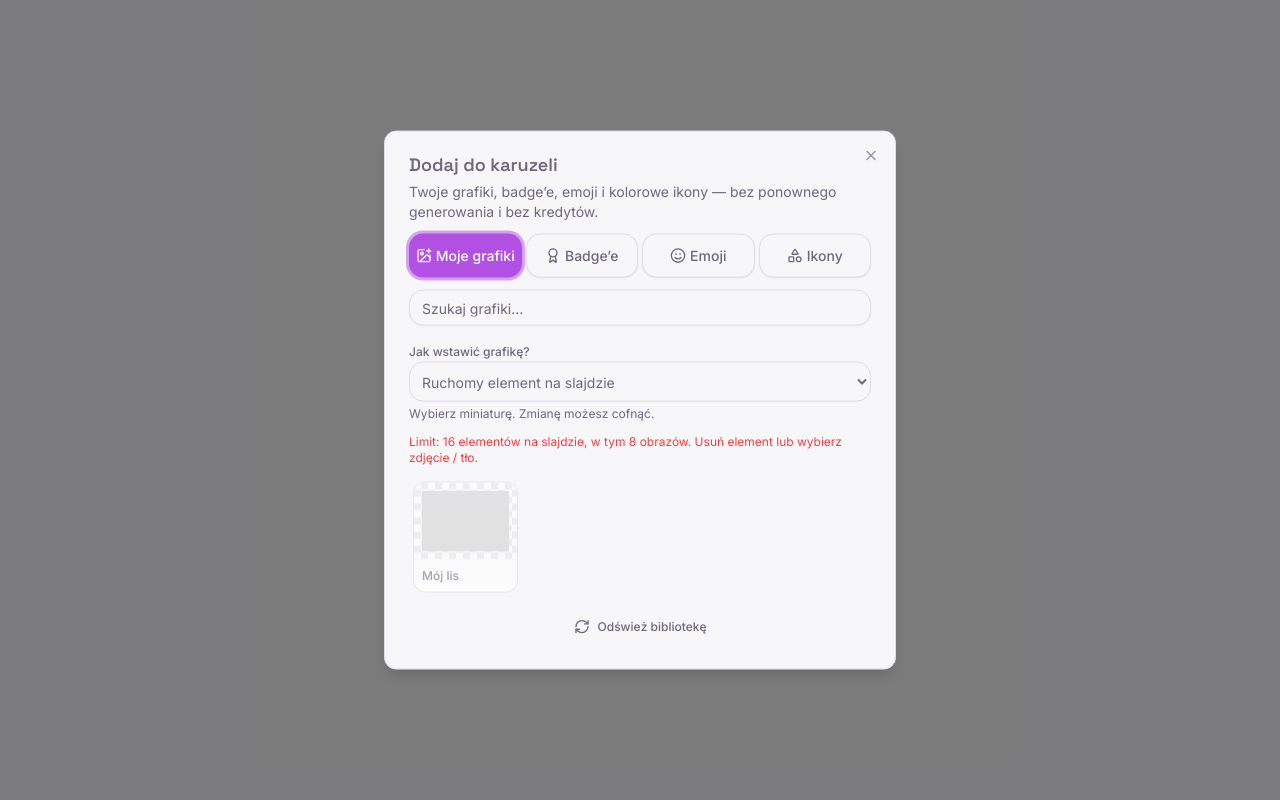
Test case: keeps photo and background available after the movable image limit is reached
Check: the button with aria-label "Wstaw grafikę: Mój lis" is disabled, box top-left (413, 482), bottom-right (518, 592)
Select "Zdjęcie slajdu · zastępuje obecne zdjęcie" in the dropdown labelled "Jak wstawić grafikę?" at (640, 382), box top-left (409, 362), bottom-right (871, 402)
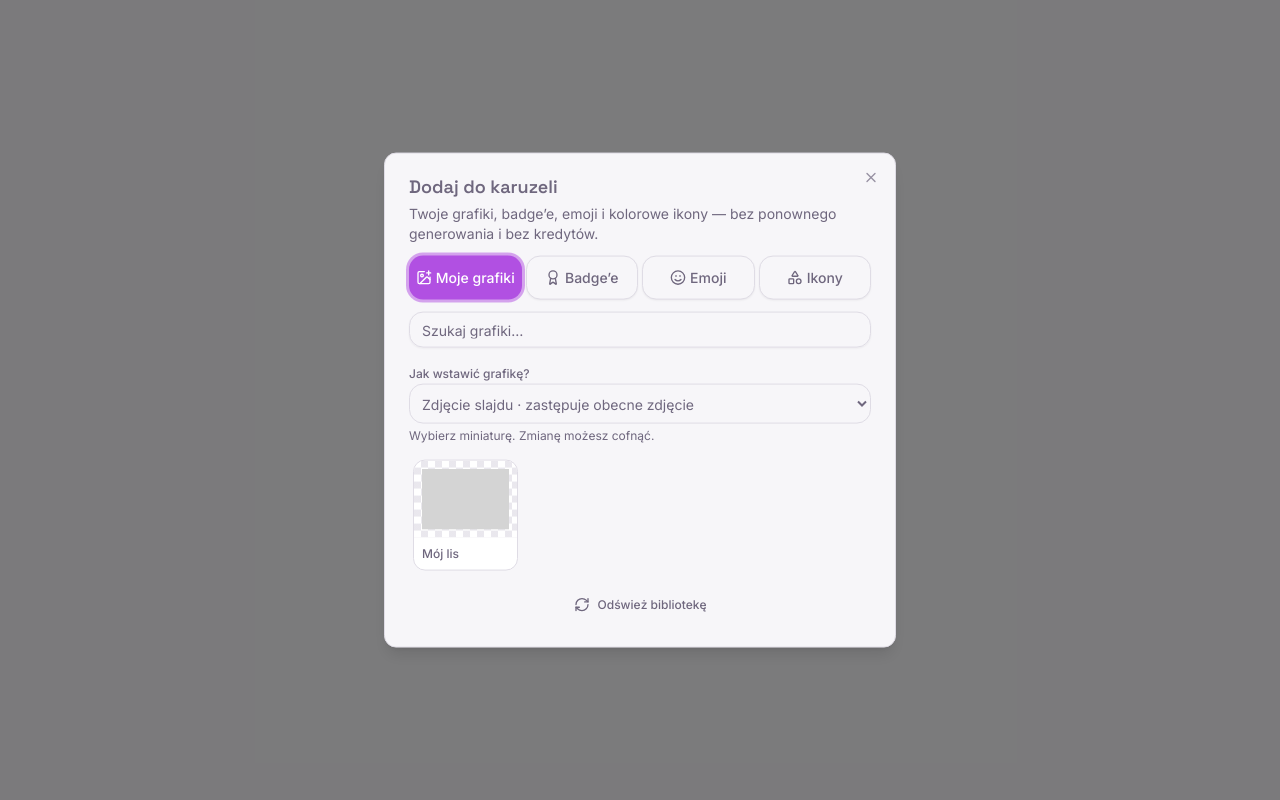
Check: the button with aria-label "Wstaw grafikę: Mój lis" is enabled, box top-left (413, 460), bottom-right (518, 570)
